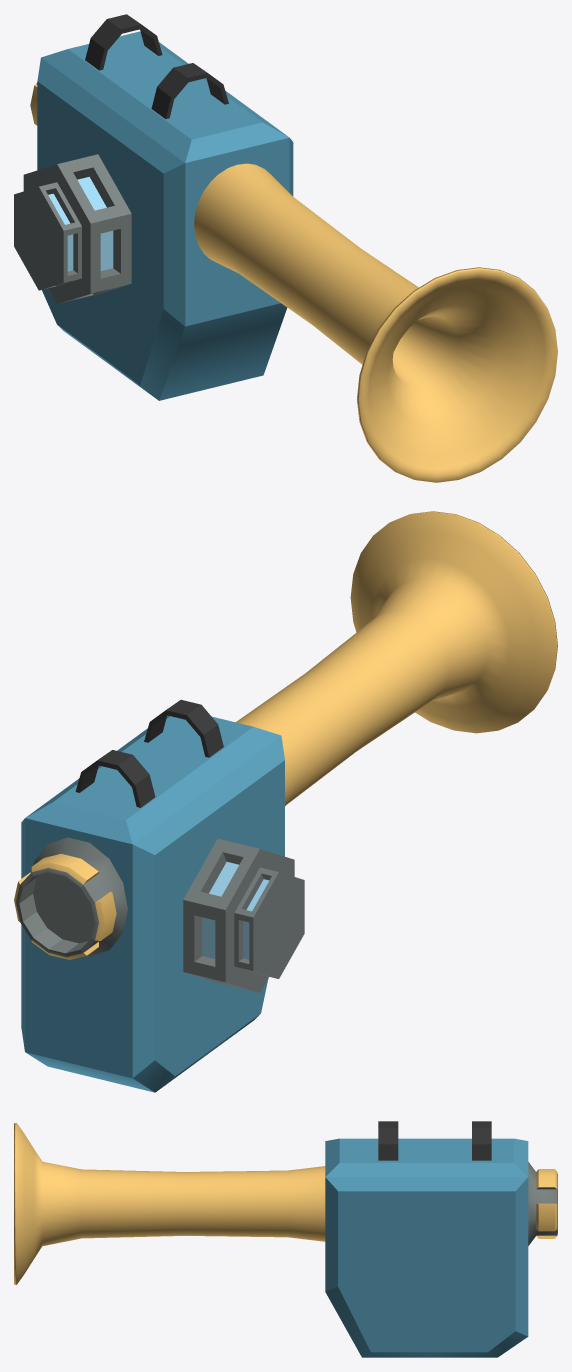
The model's file is Vacuum.fbx.
The picture shows the model from 3 angles, top to bottom: view 1: azimuth 30°, elevation 25°; view 2: azimuth 150°, elevation 25°; view 3: azimuth 270°, elevation 25°; orthographic projection. The views are drawn at different scales.
Visible parts, largest first — view 1: pTorus3; view 2: pTorus3; view 3: pTorus3.
Boxes of the visible parts, bbox=[...] form: pTorus3: bbox=[14, 14, 557, 482]; pTorus3: bbox=[14, 511, 557, 1092]; pTorus3: bbox=[14, 1121, 557, 1357].
Bounding box in the file's own units: 557 × 722 × 1662.
